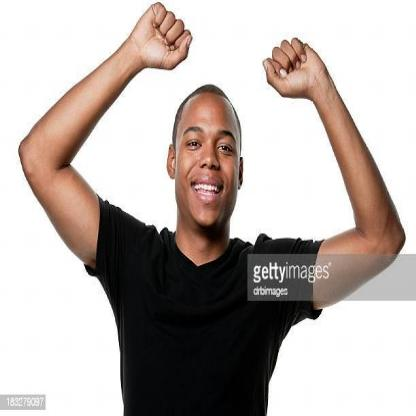fist: (130, 1, 193, 69), (262, 37, 324, 98)
